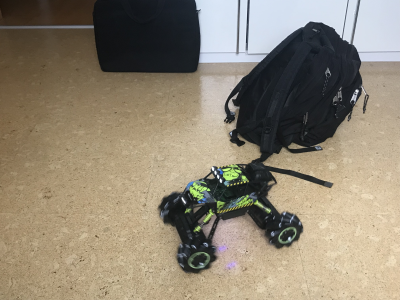remote control car: (155, 158, 306, 274)
